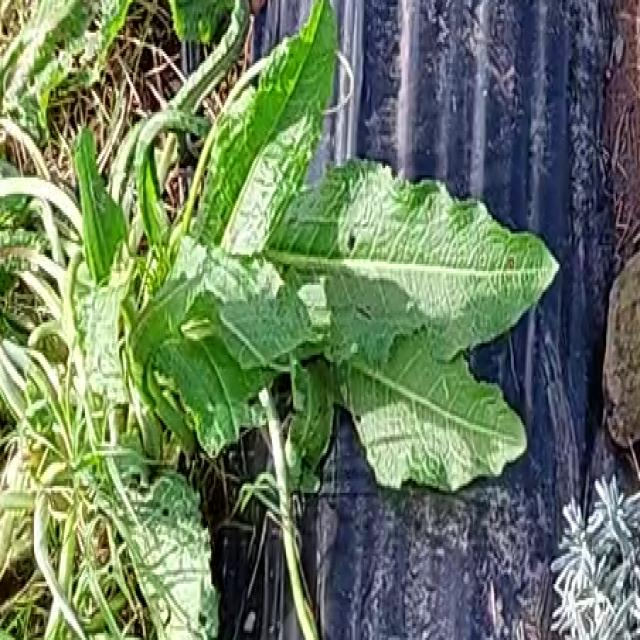organic waste: (7, 0, 557, 570)
